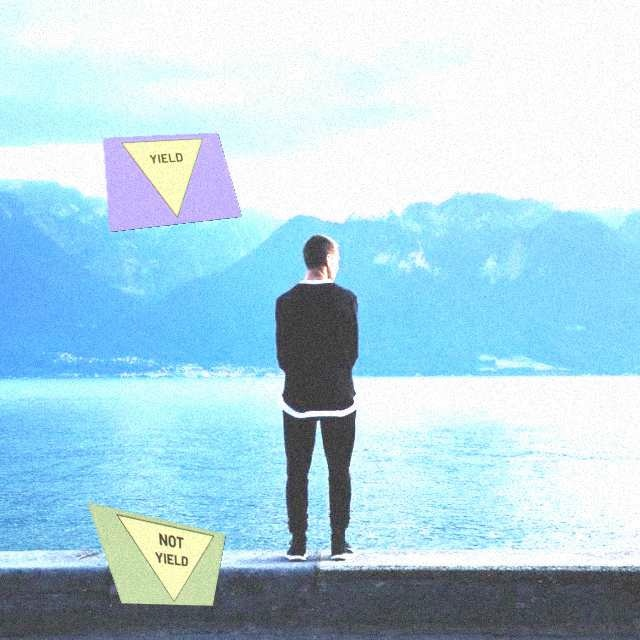NOT_YIELD: (114, 514, 215, 605)
YIELD: (121, 134, 223, 224)
